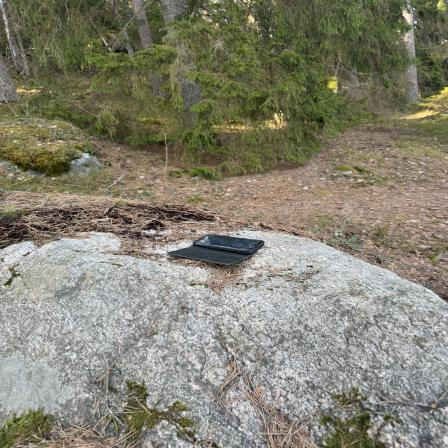phone: (169, 234, 270, 267)
